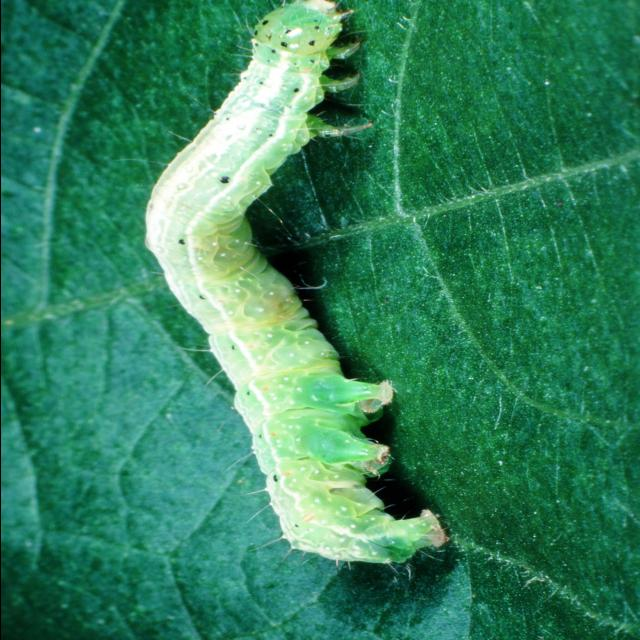looper: (134, 0, 452, 574)
